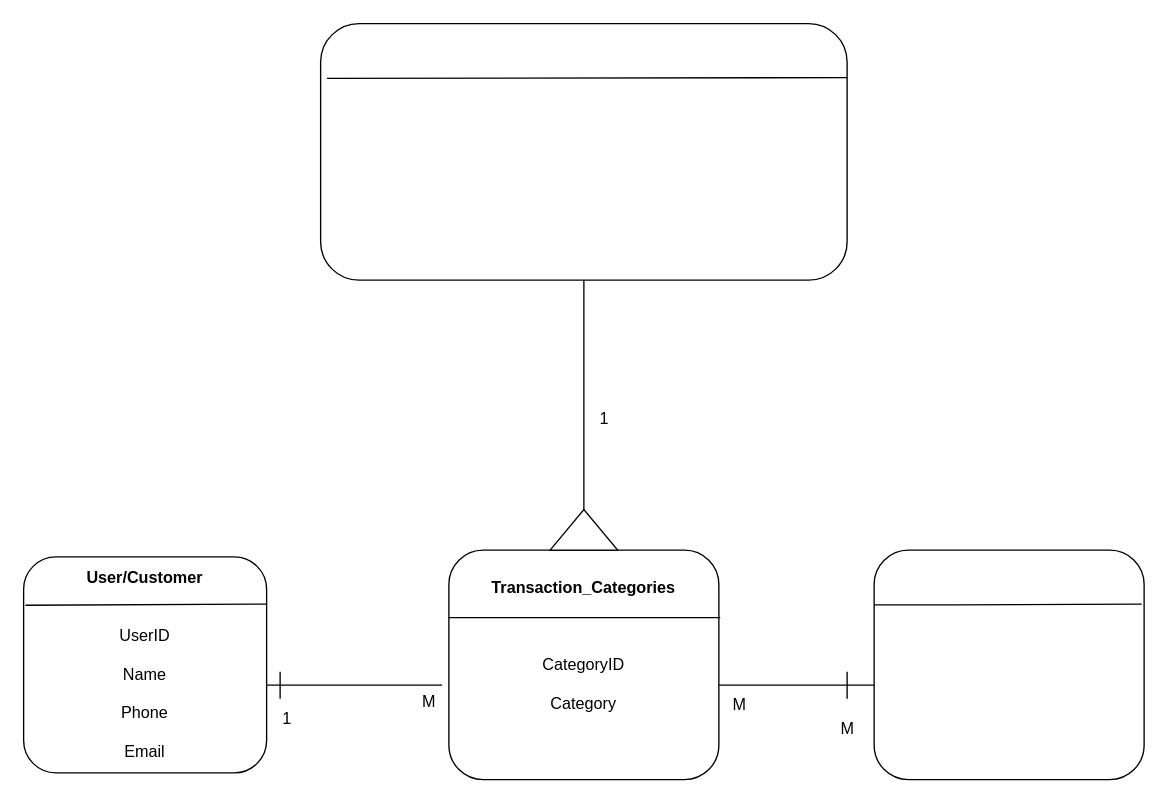
Some shapes in this 1168 by 803 pixel diagram are drawn without their labels. The centre of each missing label's shape, as x and y in pixels:
System_Logs LogID Timestamp Message TransactionID: (x=1008, y=664)
Transaction TransactionID SenderID ReceiverID Amount Date: (x=583, y=151)
